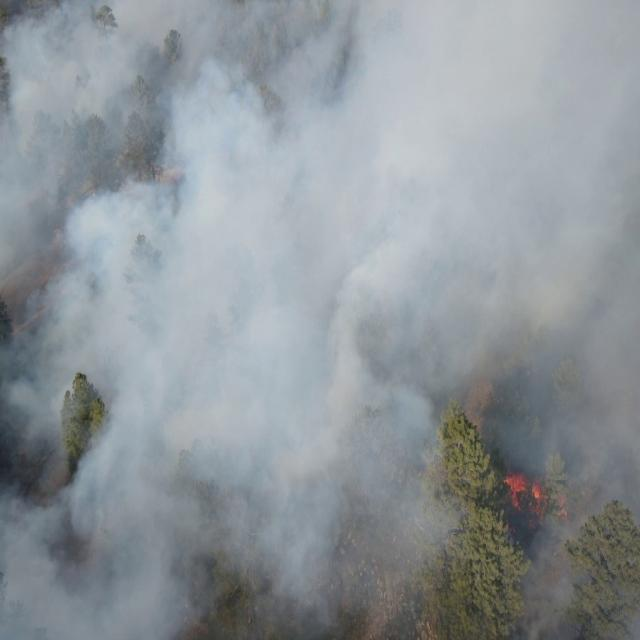fire: (501, 471, 547, 527), (558, 490, 570, 524)
smoke: (0, 0, 462, 640), (461, 0, 640, 438), (498, 436, 640, 640)
